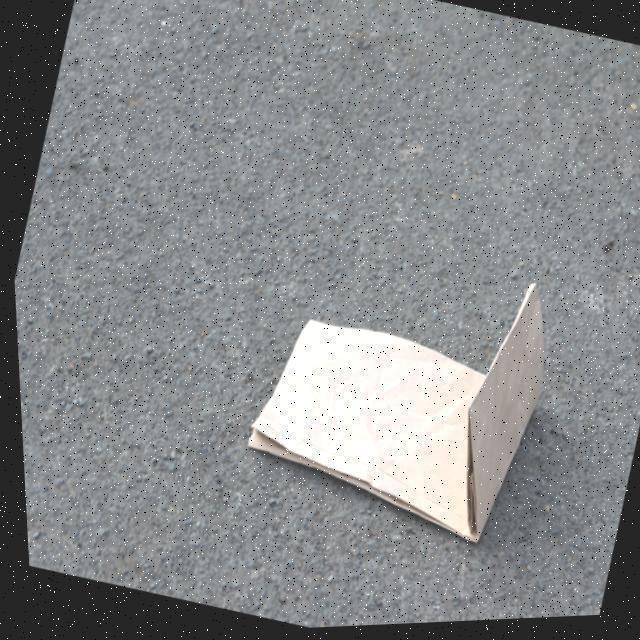Paper_Bag: (221, 222, 568, 564)
